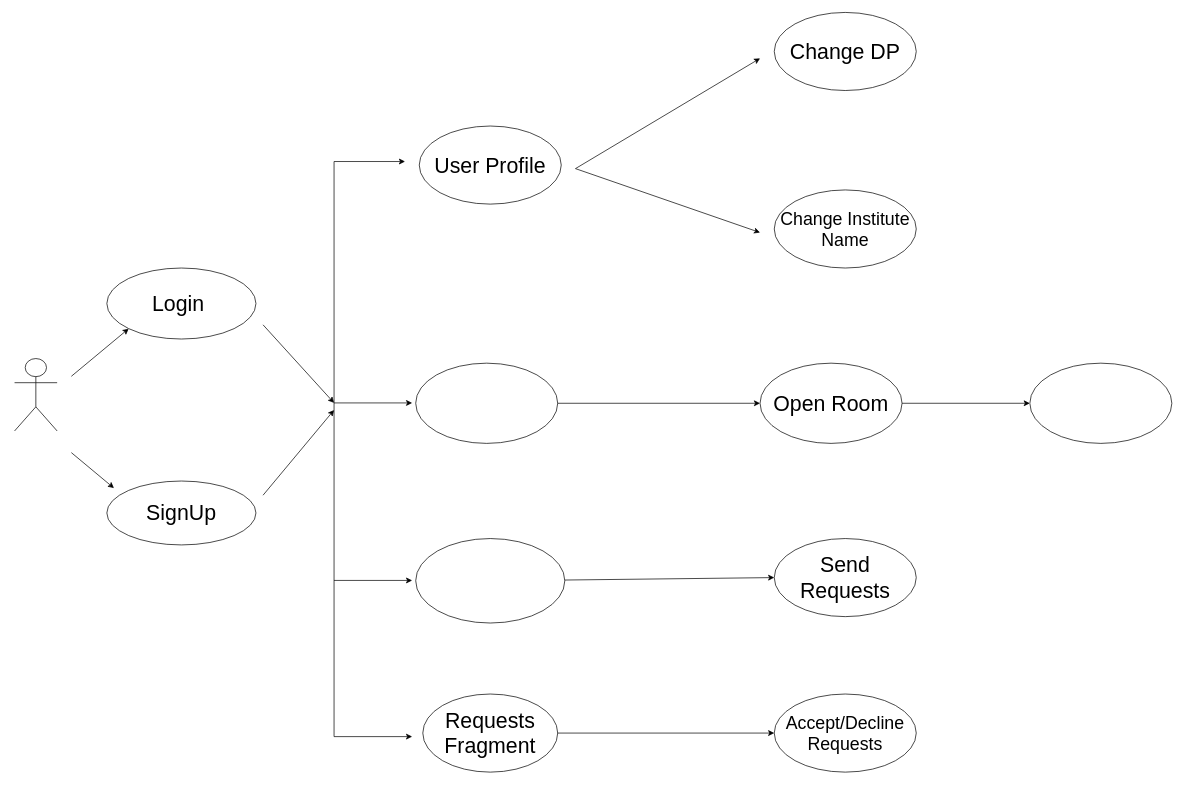
This 1184x785 diagram has some shape labels left out. Each missing label, with the box of its shape:
Chat: (1029, 362, 1172, 443)
Find Techies: (415, 538, 565, 623)
Open Batch: (415, 362, 558, 443)
Student: (14, 358, 57, 431)
